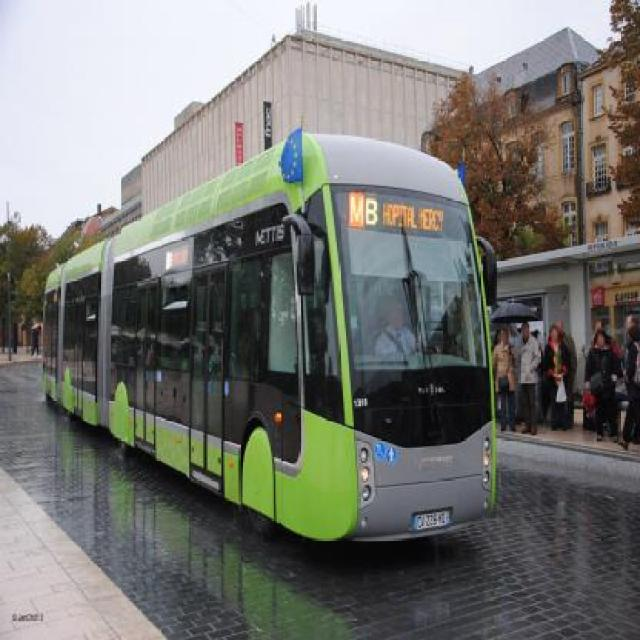bus: (40, 132, 495, 544)
